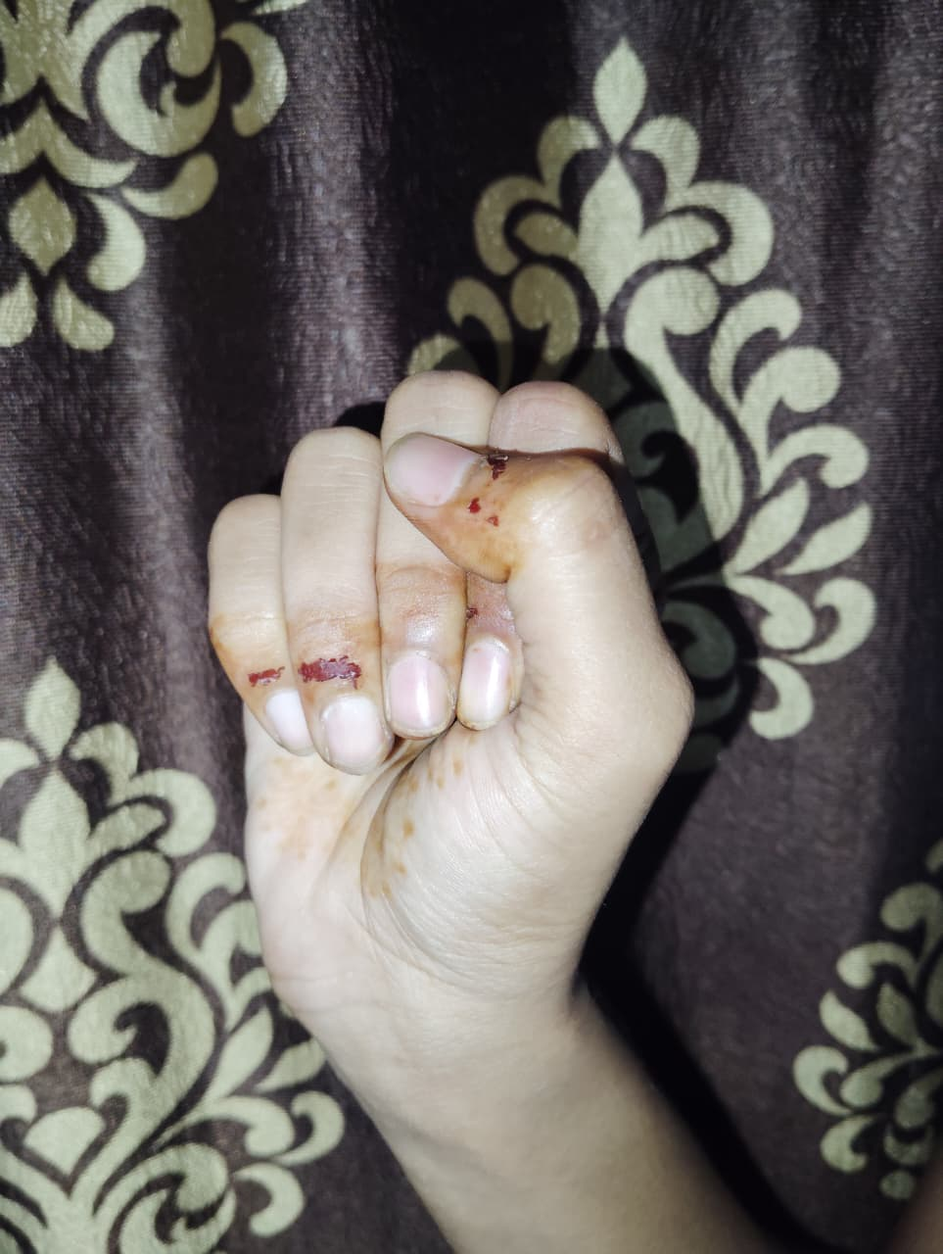S: (209, 372, 691, 997)
